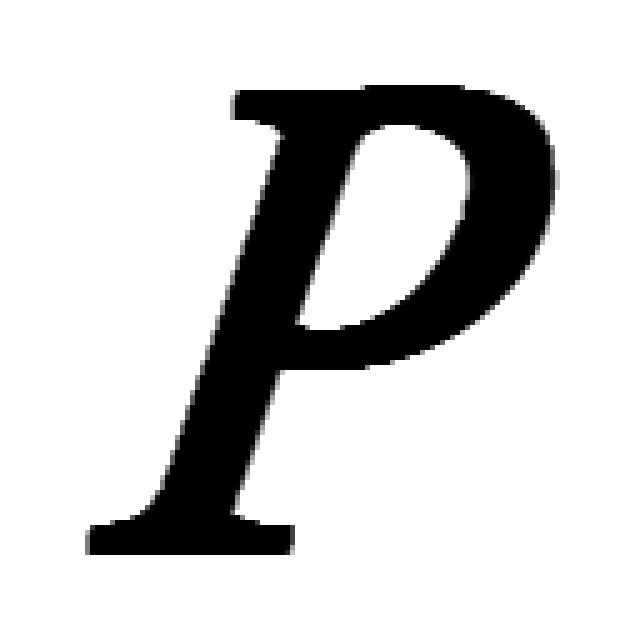P: (85, 85, 560, 560)
